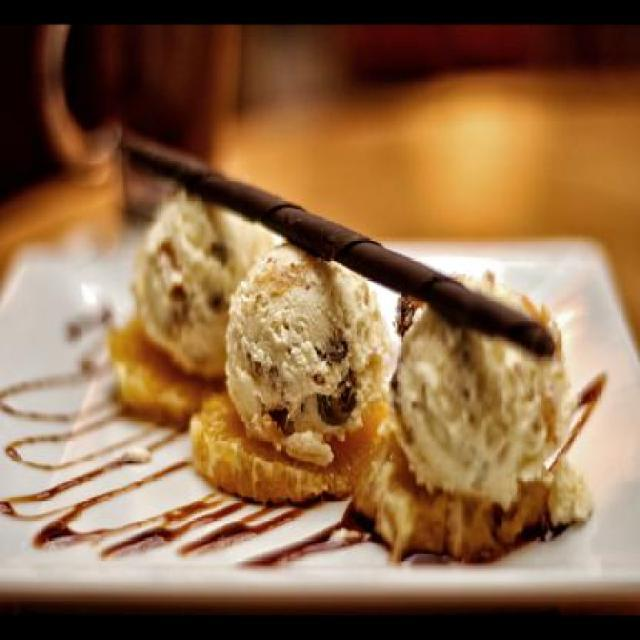Ice cream: (376, 264, 598, 538), (210, 234, 399, 481), (128, 182, 274, 382)
